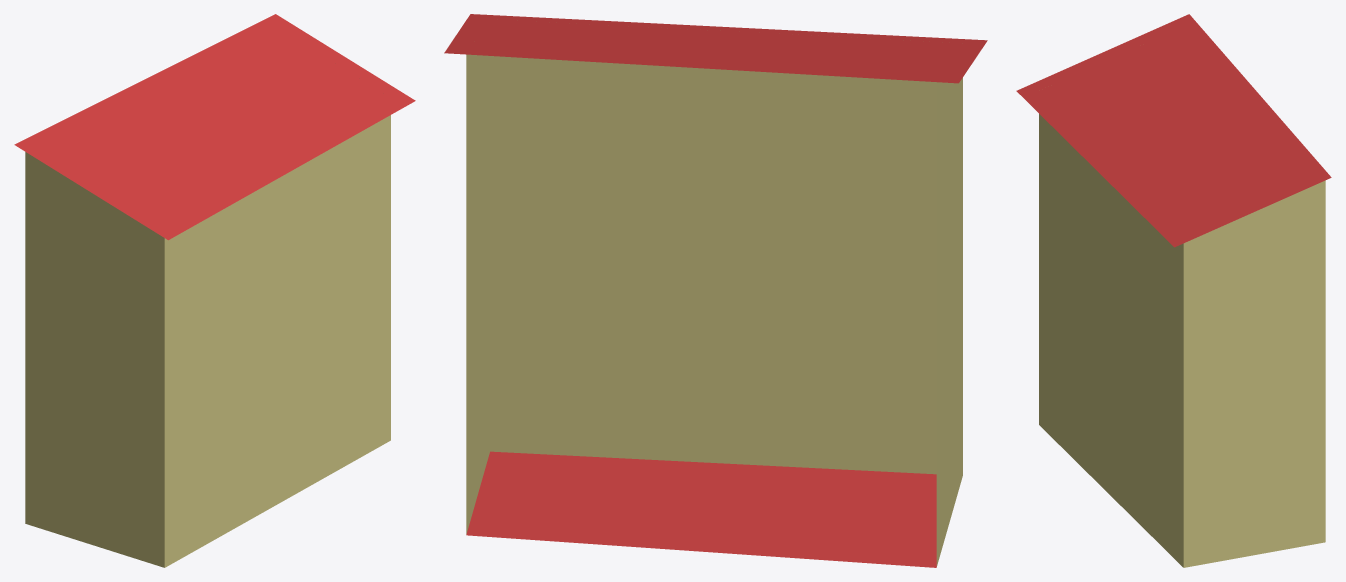
3 renders of one model, left to right at view 1: azimuth 30°, elevation 25°; view 2: azimuth 150°, elevation 25°; view 3: azimuth 270°, elevation 25°, orthographic. The views are drawn at different scales.
Size of the model in its own units: 6.39 by 4.54 by 5.96.
